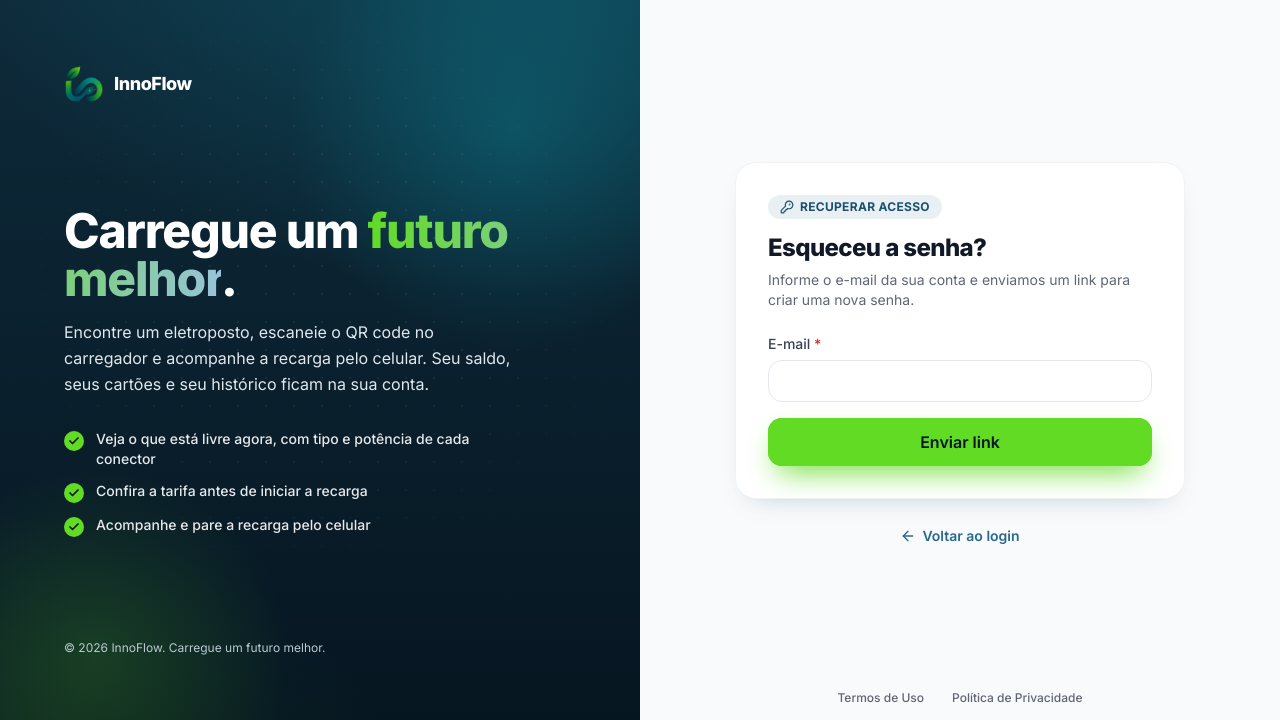
Scenario: ForgotPassword › rede e 5xx: textos de authErrors
Type "alguem@example.com" into the field labelled "E-mail *". click: (960, 380)
box: [768,360,1152,402]
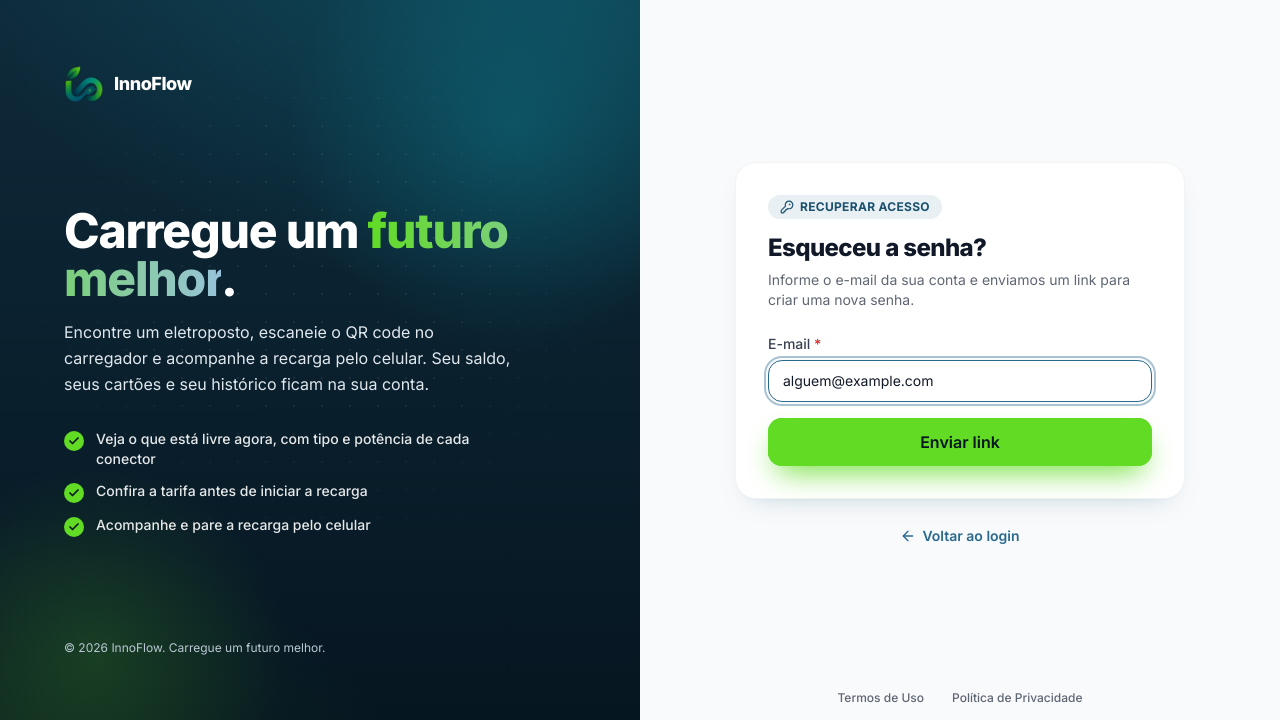
Click the button "Enviar link". click: (960, 442)
box: [768,418,1152,466]
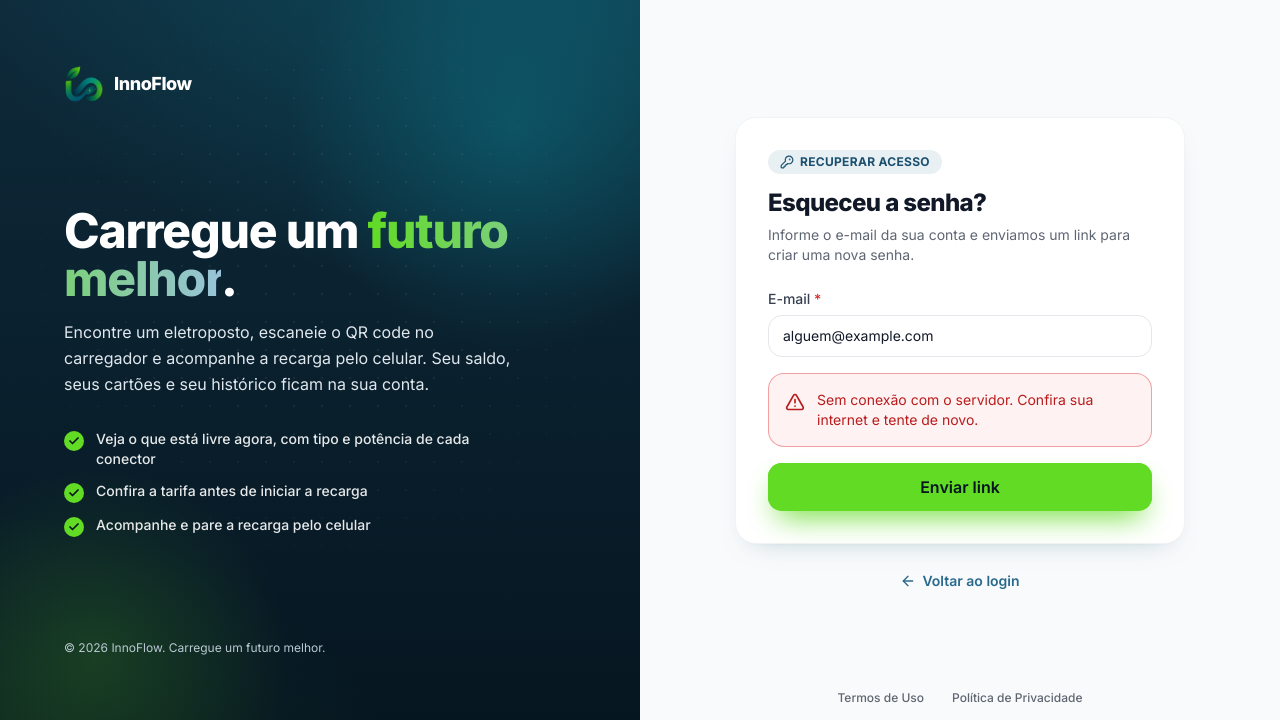
Now the message reads "Sem conexão com o servidor. Confira sua internet e tente de novo.", box [817,390,1093,428]
Click the button "Enviar link". click: (960, 486)
box: [768,462,1152,510]
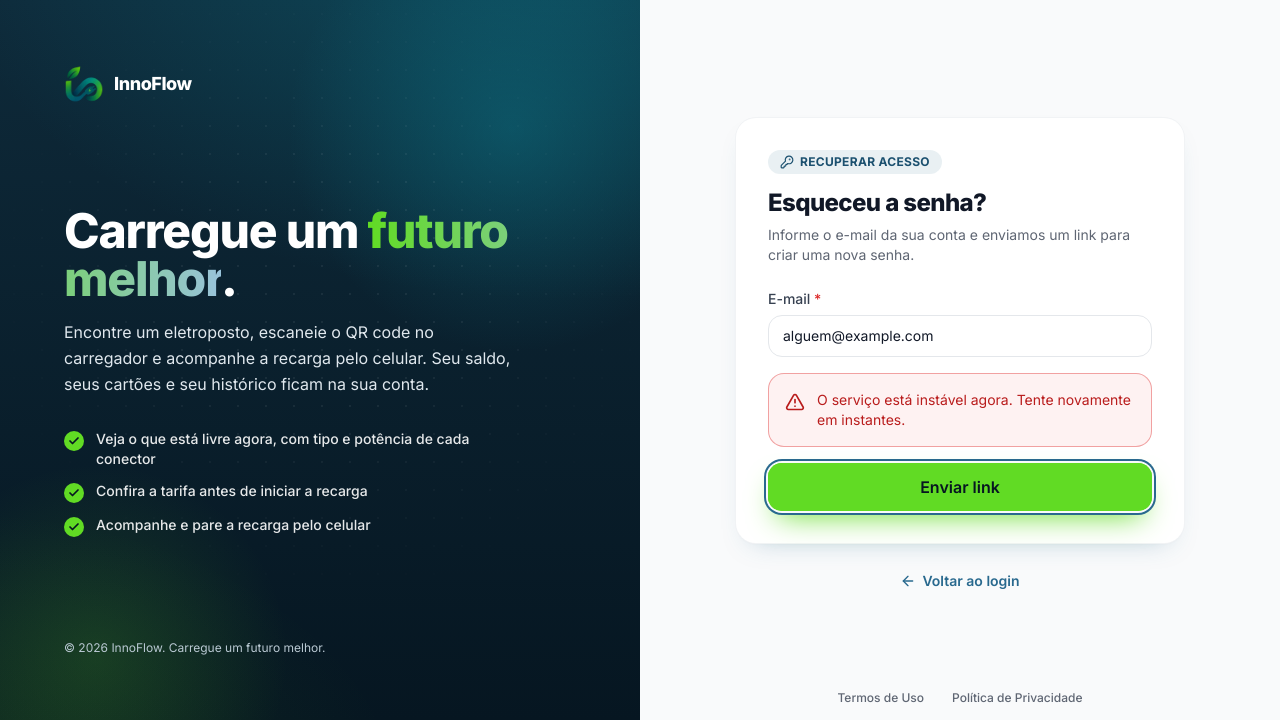
Now the message reads "O serviço está instável agora. Tente novamente em instantes.", box [817,390,1131,428]
